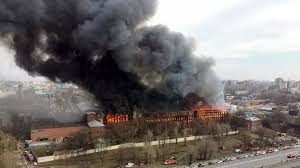smoke: (1, 1, 226, 107)
